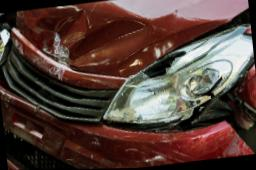Bonnet: (12, 0, 249, 77)
Bumper: (0, 81, 256, 170)
Light: (103, 22, 255, 135)
